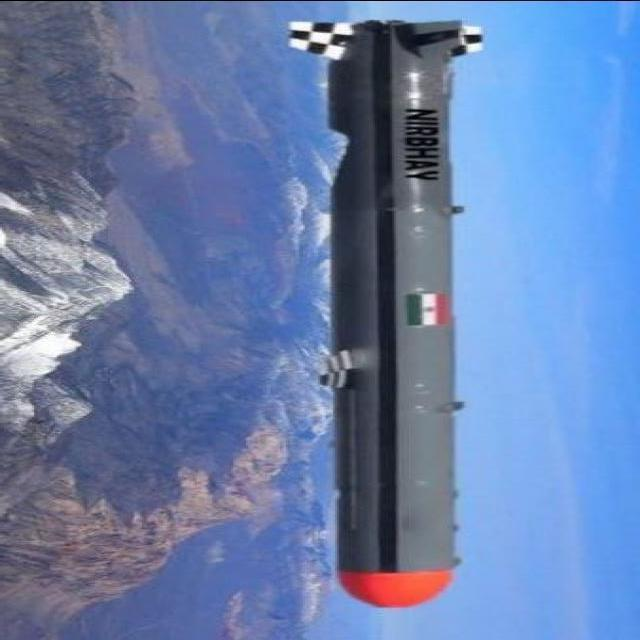missile: (290, 18, 481, 611)
